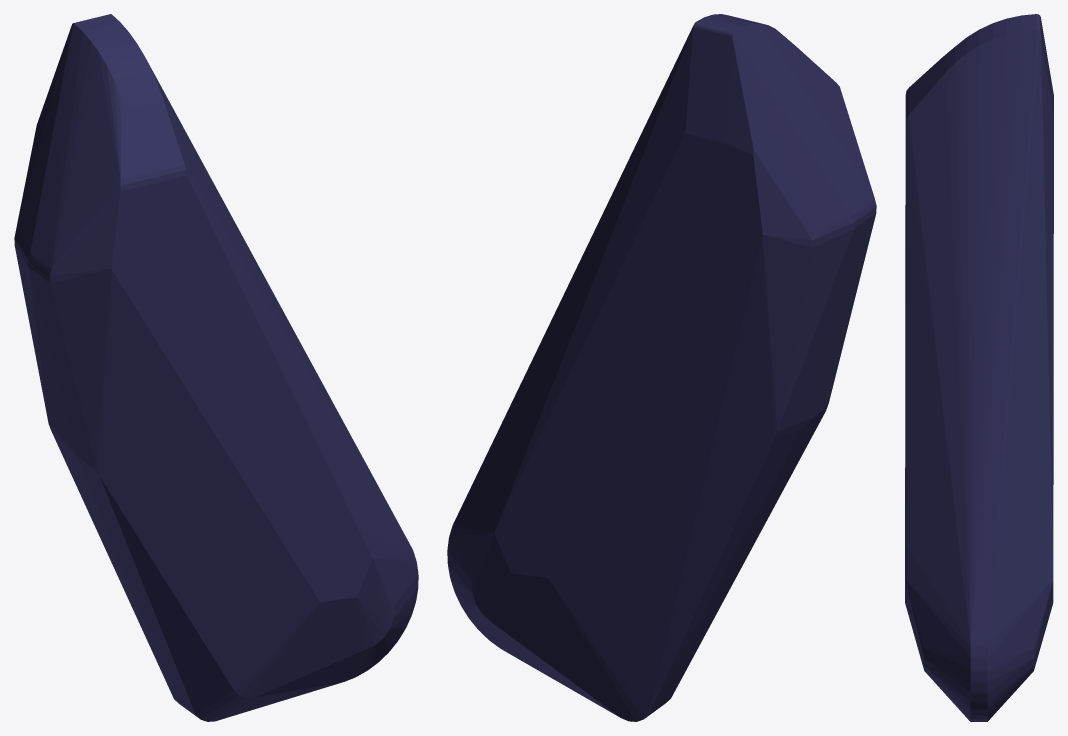
Rendered from GRIPPER_OPEN_FINGER_3.dae.
The picture shows the model from 3 angles, left to right: view 1: azimuth 30°, elevation 25°; view 2: azimuth 150°, elevation 25°; view 3: azimuth 270°, elevation 25°; orthographic projection. The views are drawn at different scales.
Parts seen in each view (by area): view 1: GRIPPER_OPEN_FINGER_3; view 2: GRIPPER_OPEN_FINGER_3; view 3: GRIPPER_OPEN_FINGER_3.
Part boxes in pixels (<box>): GRIPPER_OPEN_FINGER_3: <box>14,14,418,721</box>; GRIPPER_OPEN_FINGER_3: <box>447,14,876,721</box>; GRIPPER_OPEN_FINGER_3: <box>905,14,1053,721</box>.
Size of the model in its own units: 0.0815 by 0.0309 by 0.1411.
